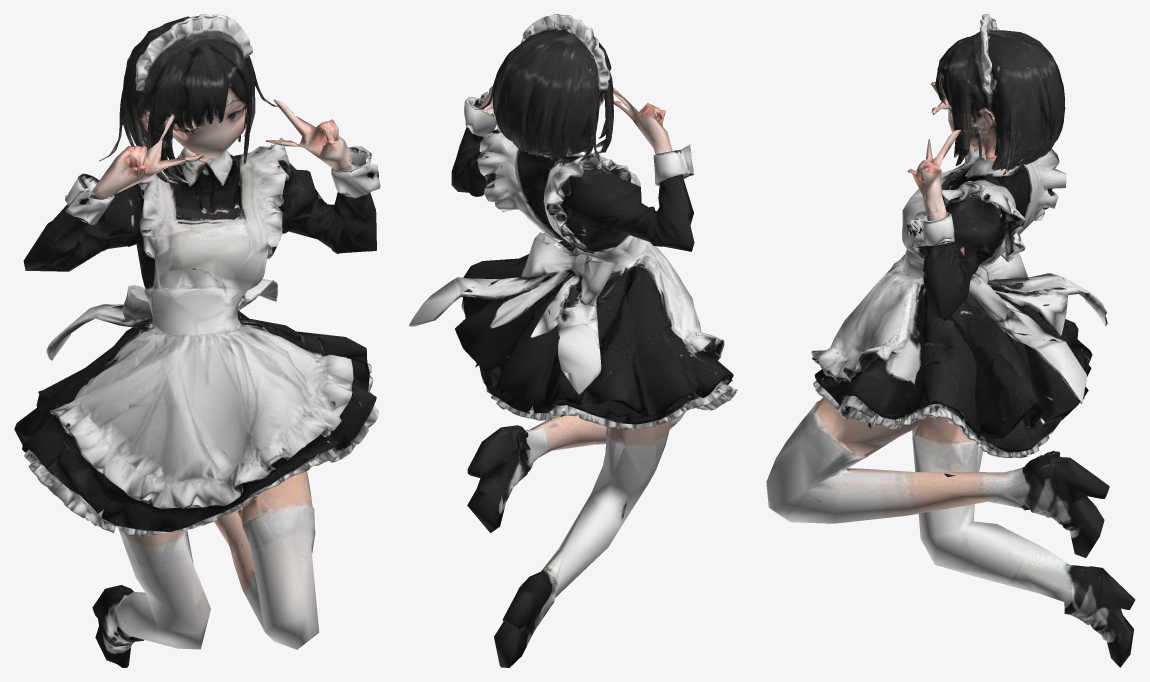
Rendered from char6_tsundere_woman.glb.
3 renders of one model, left to right at view 1: azimuth 30°, elevation 25°; view 2: azimuth 150°, elevation 25°; view 3: azimuth 270°, elevation 25°, orthographic. The views are drawn at different scales.
Bounding box in the file's own units: 0.9396 × 1.89 × 0.9804.
Materials: 1 (1 with a texture image).
